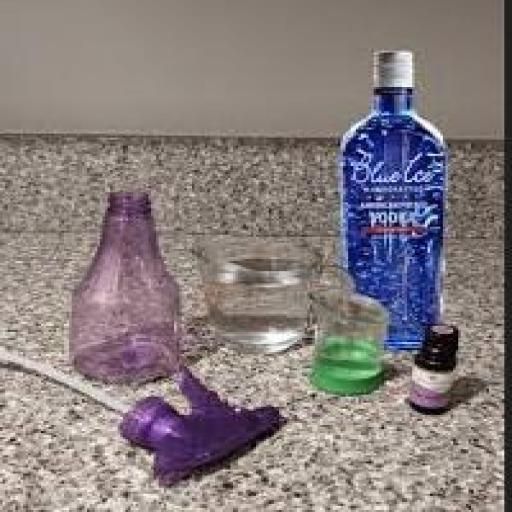bottle: (340, 42, 472, 284)
